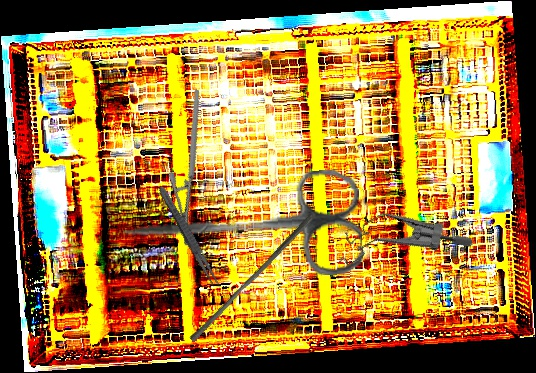Dressing Forceps: (155, 184, 224, 291)
Iris Scissors: (119, 167, 365, 290)
Needle Holder: (137, 88, 248, 249)
Pusher: (188, 208, 316, 347)
Speculum: (327, 180, 475, 306)
